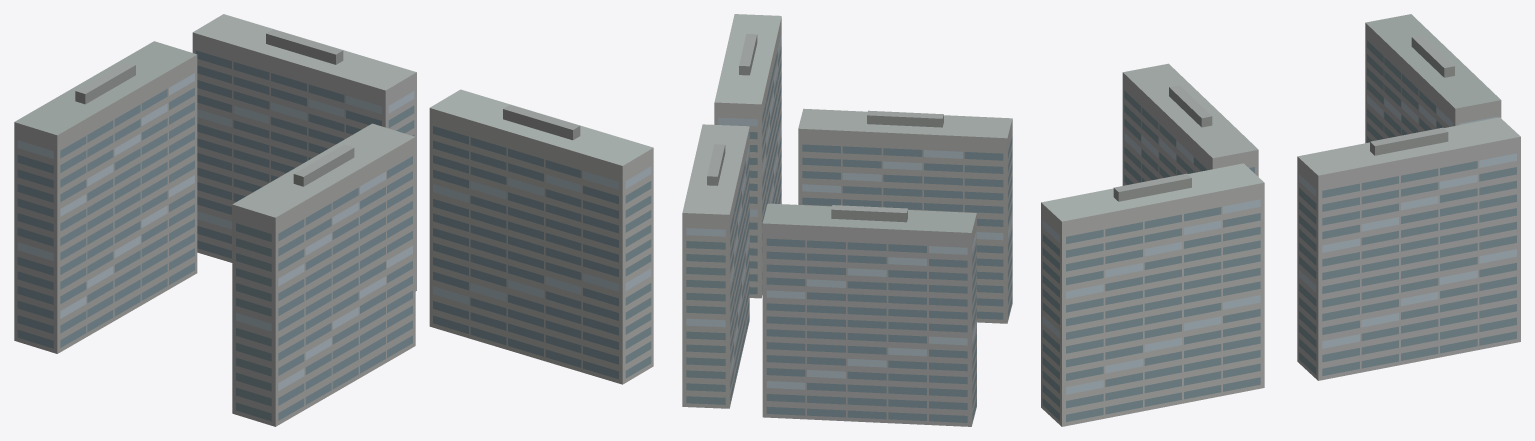
File: apt-a13905202.glb
The picture shows the model from 3 angles, left to right: view 1: azimuth 30°, elevation 25°; view 2: azimuth 150°, elevation 25°; view 3: azimuth 270°, elevation 25°; orthographic projection. The views are drawn at different scales.
Parts seen in each view (by area): view 1: apt-a13905202; view 2: apt-a13905202; view 3: apt-a13905202.
Part boxes in pixels (x1,y1,x2,y2): apt-a13905202: (14,14,653,426); apt-a13905202: (682,14,1012,426); apt-a13905202: (1041,14,1520,426).
Bounding box in the file's own units: 95.33 × 46 × 93.05.
